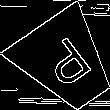P_SE: (35, 31, 98, 94)
